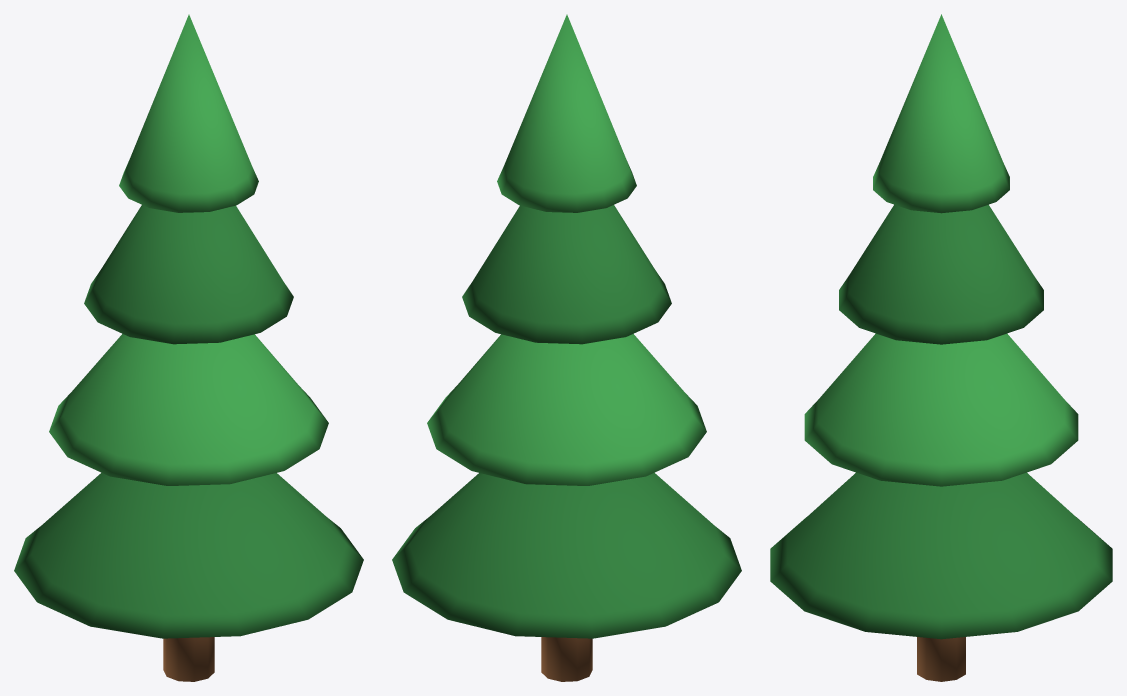
Rendered from tree_pine.glb.
3 renders of one model, left to right at view 1: azimuth 30°, elevation 25°; view 2: azimuth 150°, elevation 25°; view 3: azimuth 270°, elevation 25°, orthographic.
Parts seen in each view (by area): view 1: Body; view 2: Body; view 3: Body.
Part boxes in pixels (x1=…): Body: x1=14, y1=14, x2=363, y2=681; Body: x1=392, y1=14, x2=741, y2=681; Body: x1=770, y1=14, x2=1112, y2=681.
Size of the model in its own units: 3 by 6.2 by 2.92.
